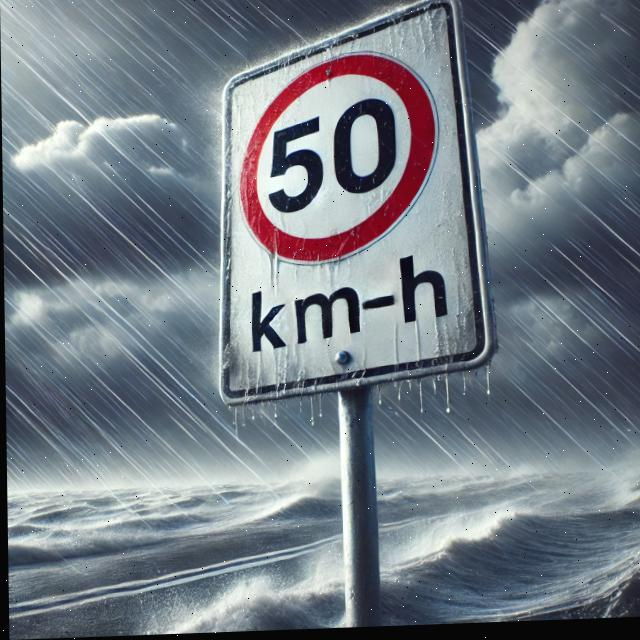Speed limit 50: (236, 51, 442, 270)
